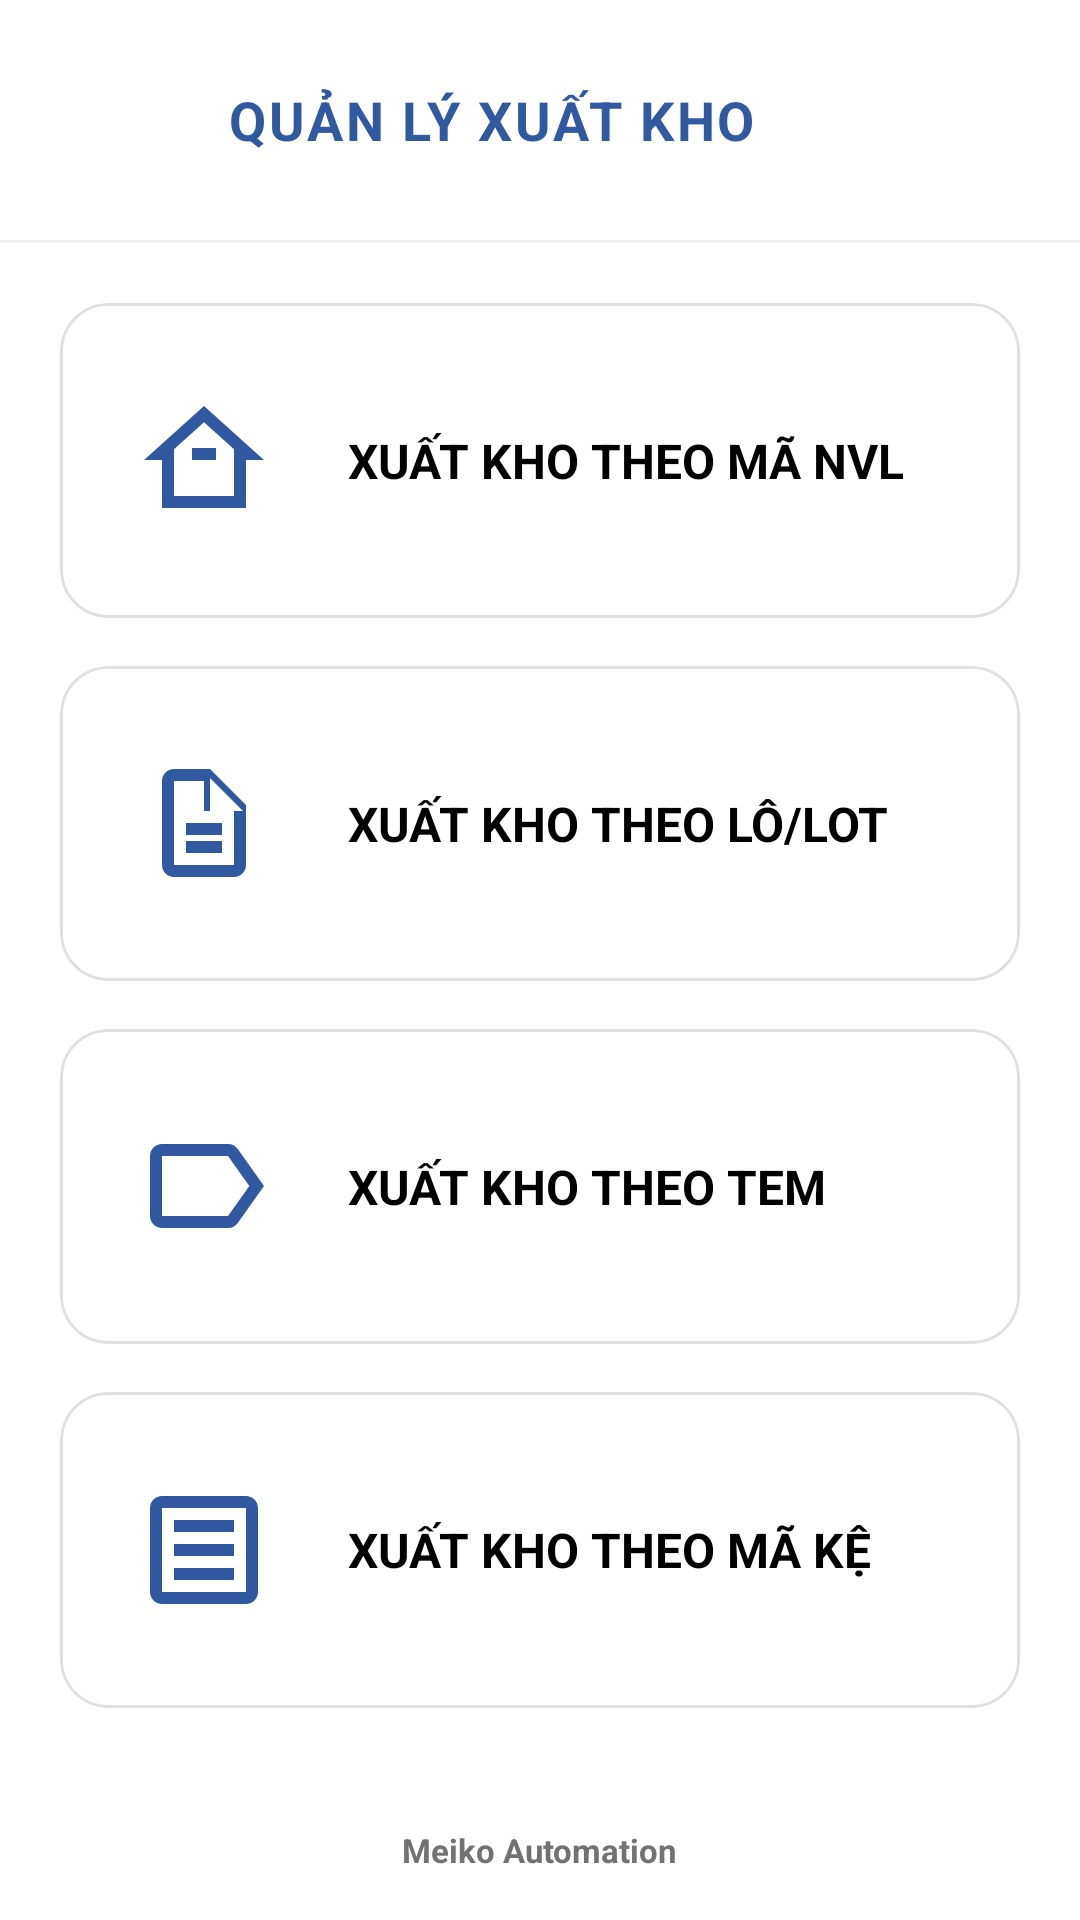

Screen size 1080 × 1920. Icon name, then its box in pixels as box=[x1, y1, x2, y2]:
Tem nhãn: box=[150, 1144, 264, 1228]
